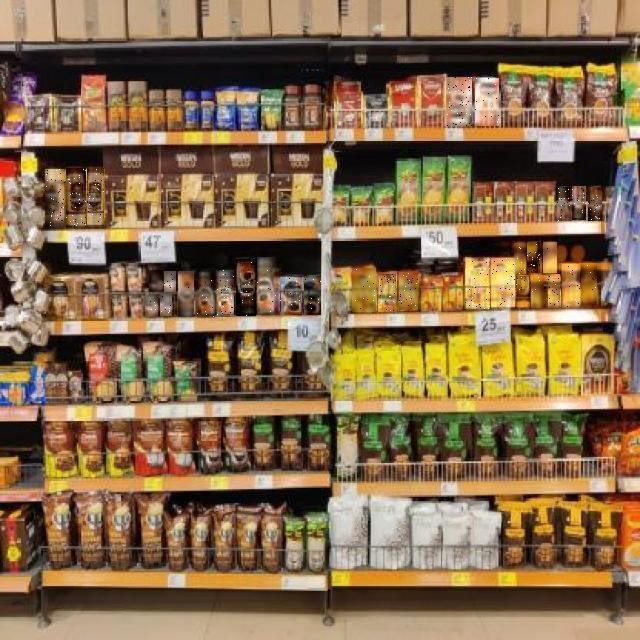Coffee: (446, 78, 472, 128), (465, 257, 490, 309), (66, 168, 86, 227), (491, 258, 515, 307), (258, 257, 278, 315), (236, 258, 256, 316), (475, 79, 499, 127), (45, 169, 64, 228), (353, 268, 377, 312), (87, 169, 104, 227), (280, 276, 302, 316), (197, 270, 215, 318), (217, 270, 235, 316), (563, 264, 581, 308), (178, 271, 194, 317), (399, 273, 418, 311), (581, 264, 597, 308), (378, 274, 396, 312), (304, 276, 321, 315), (572, 186, 586, 220), (556, 187, 570, 221), (589, 187, 603, 221), (532, 275, 546, 308), (543, 242, 557, 273), (528, 242, 542, 273), (516, 276, 530, 307), (548, 274, 560, 308), (514, 243, 526, 274), (145, 294, 158, 317), (149, 271, 162, 293), (160, 295, 172, 317), (164, 271, 176, 292)
